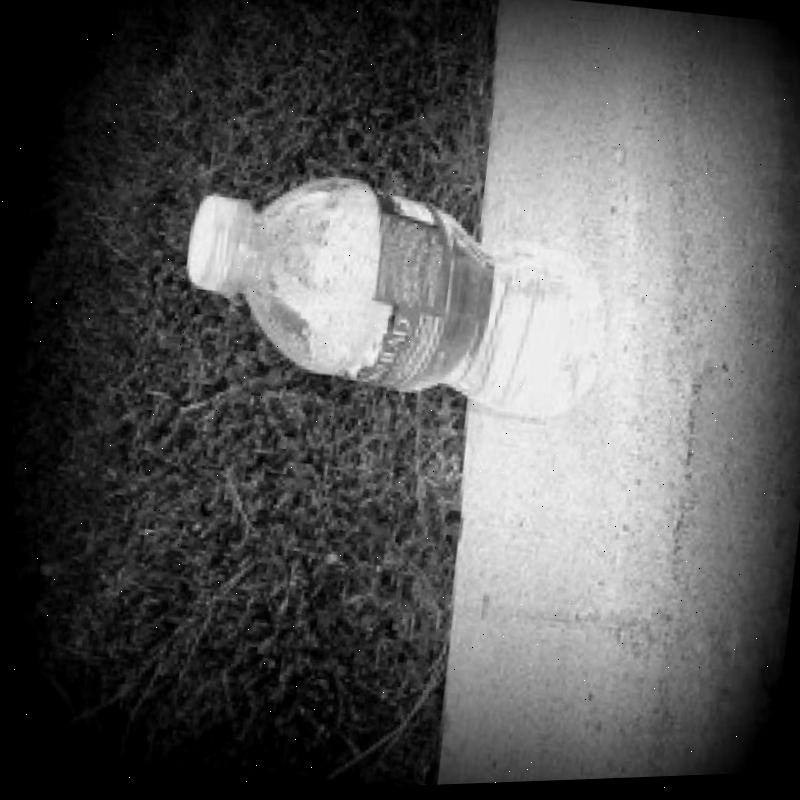botella: (167, 150, 625, 442)
